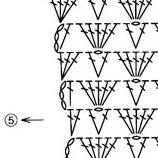double treble: (44, 21, 74, 83)
enseble_chain: (90, 75, 126, 111), (90, 18, 126, 54), (47, 21, 82, 56), (129, 104, 158, 141), (74, 16, 103, 52), (127, 48, 158, 81), (126, 21, 156, 54), (114, 104, 141, 139), (126, 78, 155, 110), (114, 46, 141, 80), (91, 107, 118, 138), (93, 51, 117, 80), (98, 134, 125, 158), (46, 0, 69, 26), (54, 51, 73, 80), (60, 80, 79, 108), (64, 109, 83, 137), (78, 134, 100, 158), (20, 113, 46, 129), (131, 0, 149, 22), (62, 140, 76, 158), (95, 137, 107, 158), (4, 114, 19, 128)
fan: (121, 135, 141, 158), (129, 50, 145, 77), (94, 136, 107, 158)
